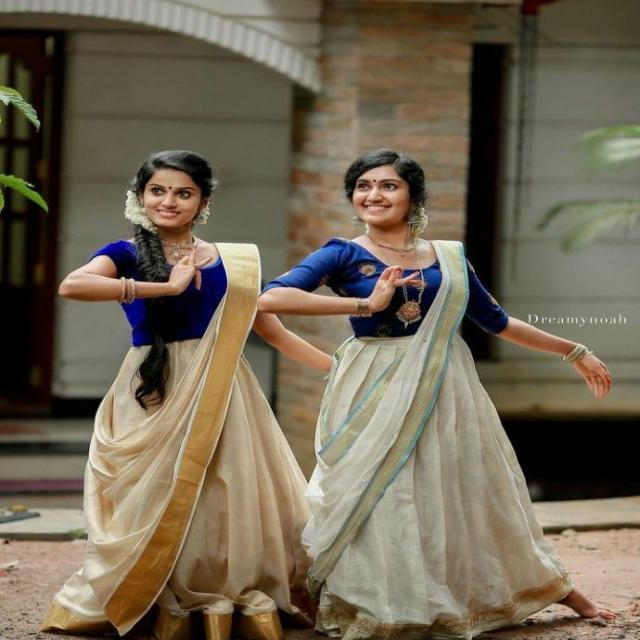female-dress: (310, 232, 540, 626), (92, 240, 312, 621)
